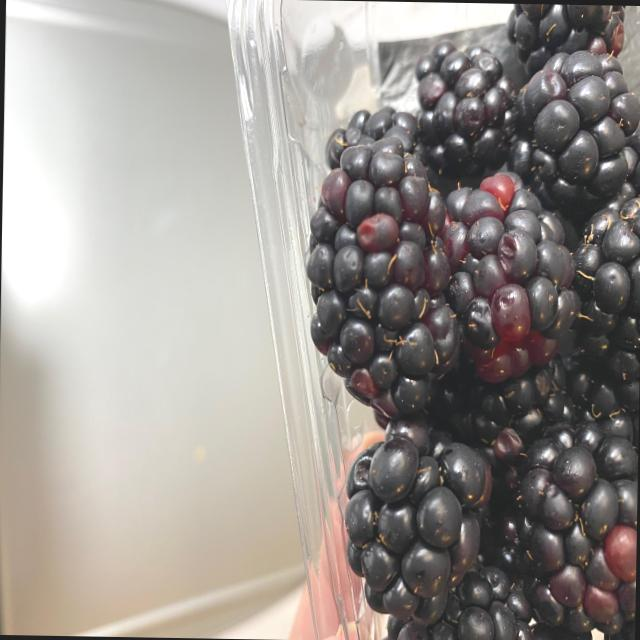blackberries: (328, 0, 634, 640)
